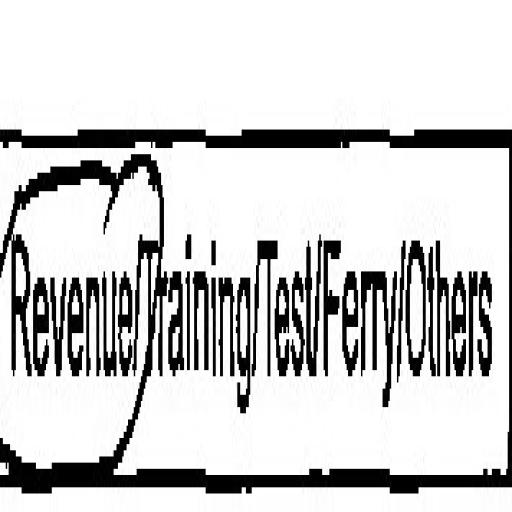check: (0, 68, 135, 512)
